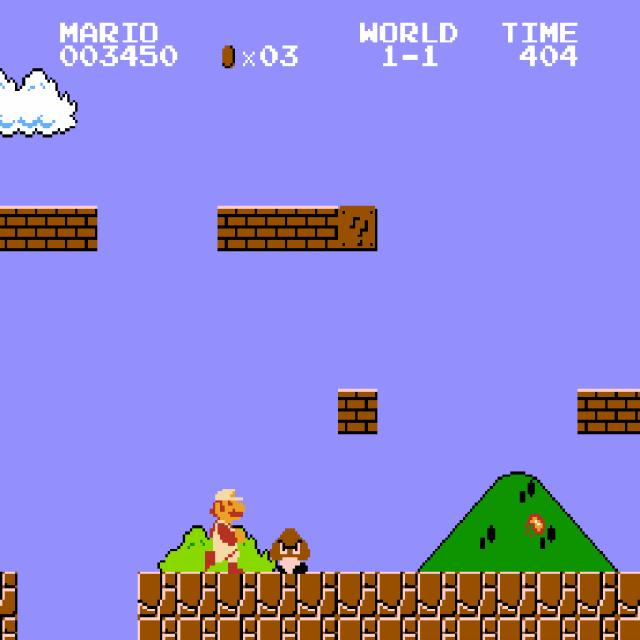brick_block: (17, 206, 58, 251), (57, 206, 98, 251), (217, 206, 258, 251), (257, 206, 298, 251), (297, 206, 338, 251), (337, 389, 378, 434), (577, 389, 618, 434), (618, 389, 640, 434), (0, 205, 17, 251)
fire_mario: (203, 480, 245, 574)
fireball: (525, 511, 545, 537)
goomba: (268, 526, 310, 574)
mystery_block: (337, 206, 378, 251)
undestructible_block: (137, 572, 178, 617), (177, 572, 218, 617), (217, 572, 258, 617), (257, 572, 298, 617), (297, 572, 338, 617), (337, 572, 378, 617), (377, 572, 418, 617), (417, 572, 458, 617), (457, 572, 498, 617), (497, 572, 538, 617), (537, 572, 578, 617), (577, 572, 618, 617), (618, 572, 640, 617), (137, 617, 178, 640), (177, 617, 218, 640), (217, 617, 258, 640), (257, 617, 298, 640), (297, 617, 338, 640), (337, 617, 378, 640), (377, 617, 418, 640), (417, 617, 458, 640), (457, 617, 498, 640), (497, 617, 538, 640), (537, 617, 578, 640), (577, 617, 618, 640), (0, 571, 17, 617), (618, 617, 640, 640), (0, 617, 17, 639)
